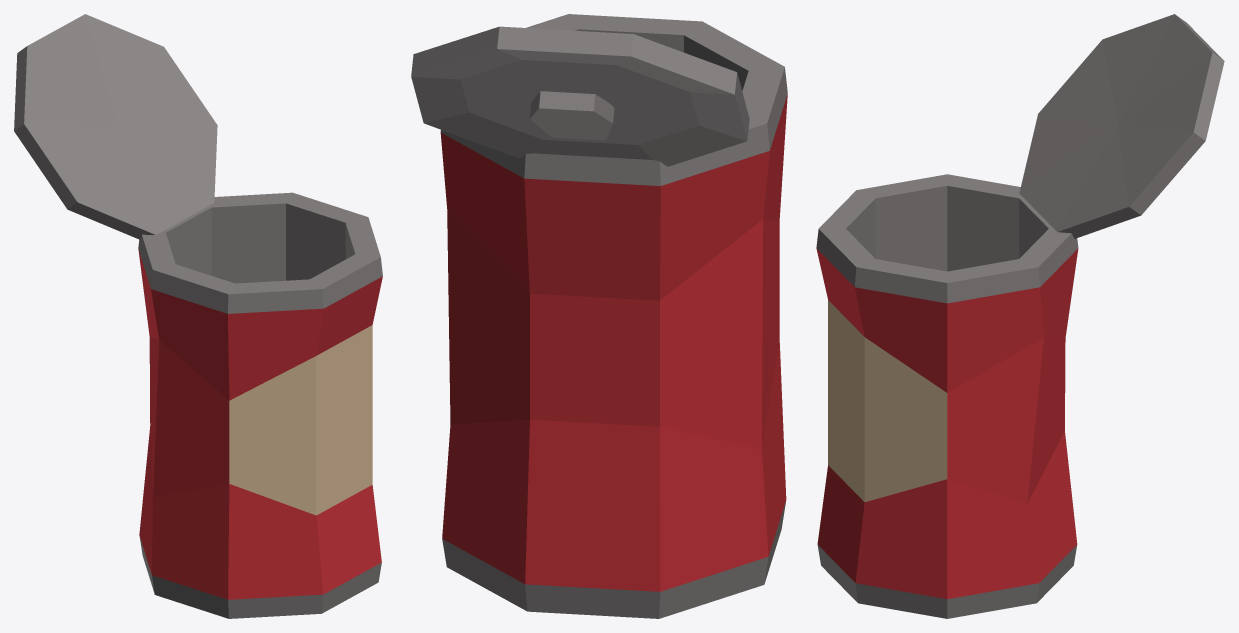
Rendered from can-beans-open.glb.
3 renders of one model, left to right at view 1: azimuth 30°, elevation 25°; view 2: azimuth 150°, elevation 25°; view 3: azimuth 270°, elevation 25°, orthographic. The views are drawn at different scales.
Parts seen in each view (by area): view 1: can-beans-open; view 2: can-beans-open; view 3: can-beans-open.
Boxes of the visible parts, <box> form: can-beans-open: <box>14,14,382,618</box>; can-beans-open: <box>411,14,787,618</box>; can-beans-open: <box>816,14,1224,618</box>.
Bounding box in the file's own units: 0.1582 × 0.2594 × 0.1962.
1 material, 1 textured.
